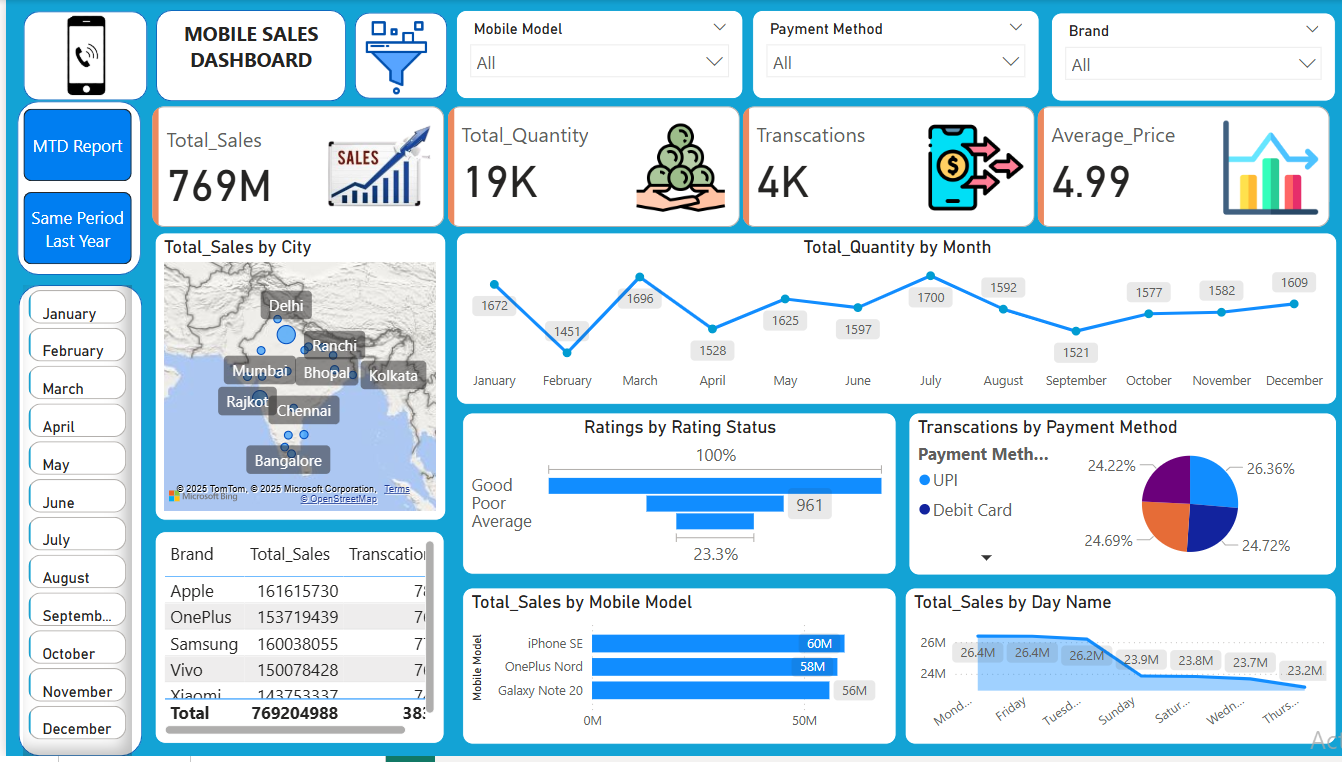

This screenshot's page, from the dashboard's own definition file:
{"tool":"powerbi","page":{"name":"Home","canvas":[1280,720],"ordinal":0},"visuals":[{"type":"shape","box":[16.5,11,118,85.1],"z":0},{"type":"image","box":[23.3,0,105.7,105.7],"z":1000},{"type":"shape","box":[10.7,96.4,117.9,165.5],"z":2000},{"type":"shape","box":[11.9,271.4,117.9,448.8],"z":3000},{"type":"advancedSlicerVisual","fields":{"Values":["Custom_Calender.Date.Variation.Date Hierarchy.Month"]},"box":[16.7,271.4,103.6,448.8],"z":4000},{"type":"cardVisual","fields":{"Data":["Sales_Data.Total_Sales","Sales_Data.Total_Quantity","Sales_Data.Transcations","Sales_Data.Average_Price"]},"box":[135.1,96.3,1132.3,125],"z":5000},{"type":"slicer","fields":{"Values":["Sales_Data.Mobile Model"]},"box":[428.6,9.5,273.8,84.5],"z":6000},{"type":"slicer","fields":{"Values":["Sales_Data.Payment Method"]},"box":[710.7,9.5,273.8,84.5],"z":7000},{"type":"slicer","fields":{"Values":["Sales_Data.Brand"]},"box":[995.8,11.5,271.6,84.8],"z":8000},{"type":"shape","box":[332.1,11.9,88.1,82.1],"z":9000},{"type":"image","box":[323.8,14.3,95.2,82.1],"z":10000},{"type":"shape","box":[142.9,9.5,181,86.9],"z":11000},{"type":"textbox","box":[151.2,14.3,164.3,79.8],"z":12000},{"type":"map","fields":{"Category":["Sales_Data.City"],"Size":["Sales_Data.Total_Sales"]},"box":[142.3,221.3,277.3,274.5],"z":13000},{"type":"lineChart","fields":{"Category":["Custom_Calender.Date.Variation.Date Hierarchy.Month"],"Y":["Sales_Data.Total_Quantity"]},"box":[428.2,221.3,839.2,163.8],"z":14000},{"type":"funnel","title":" Ratings by Rating Status","fields":{"Y":["CountNonNull(Sales_Data.Customer Ratings)"],"Category":["Sales_Data.Rating Status"]},"box":[434,392.9,413.5,154.7],"z":15000},{"type":"pieChart","fields":{"Y":["Sales_Data.Transcations"],"Category":["Sales_Data.Payment Method"]},"box":[859.3,392.3,408.1,155.2],"z":16000},{"type":"clusteredBarChart","fields":{"Y":["Sales_Data.Total_Sales"],"Category":["Sales_Data.Mobile Model"]},"box":[433.9,559,413.8,149.4],"z":17000},{"type":"areaChart","fields":{"Category":["Custom_Calender.Day Name"],"Y":["Sales_Data.Total_Sales"]},"box":[856.4,559,411,149.4],"z":18000},{"type":"tableEx","fields":{"Values":["Sales_Data.Brand","Sales_Data.Total_Sales","Sales_Data.Transcations"]},"box":[142.3,505.8,275.9,202.6],"z":19000},{"type":"pageNavigator","box":[16.7,103.6,103.6,148.8],"z":20000}]}

Visuals, with their boxes in screenshot pixels (x1, y1, x2, y2), scaled from the page's 1280x720 canvas onto the 1342x762 screenshot:
shape: [left=17, top=12, right=141, bottom=102]
image: [left=24, top=0, right=135, bottom=112]
shape: [left=11, top=102, right=135, bottom=277]
shape: [left=12, top=287, right=136, bottom=761]
advancedSlicerVisual - Custom_Calender.Date.Variation.Date Hierarchy.Month: [left=18, top=287, right=126, bottom=761]
cardVisual - Sales_Data.Total_Sales x Sales_Data.Total_Quantity: [left=142, top=102, right=1329, bottom=234]
slicer - Sales_Data.Mobile Model: [left=449, top=10, right=736, bottom=99]
slicer - Sales_Data.Payment Method: [left=745, top=10, right=1032, bottom=99]
slicer - Sales_Data.Brand: [left=1044, top=12, right=1329, bottom=102]
shape: [left=348, top=13, right=441, bottom=99]
image: [left=339, top=15, right=439, bottom=102]
shape: [left=150, top=10, right=340, bottom=102]
textbox: [left=159, top=15, right=331, bottom=100]
map - Sales_Data.City x Sales_Data.Total_Sales: [left=149, top=234, right=440, bottom=525]
lineChart - Custom_Calender.Date.Variation.Date Hierarchy.Month x Sales_Data.Total_Quantity: [left=449, top=234, right=1329, bottom=408]
" Ratings by Rating Status" funnel: [left=455, top=416, right=889, bottom=580]
pieChart - Sales_Data.Transcations x Sales_Data.Payment Method: [left=901, top=415, right=1329, bottom=579]
clusteredBarChart - Sales_Data.Total_Sales x Sales_Data.Mobile Model: [left=455, top=592, right=889, bottom=750]
areaChart - Custom_Calender.Day Name x Sales_Data.Total_Sales: [left=898, top=592, right=1329, bottom=750]
tableEx - Sales_Data.Brand x Sales_Data.Total_Sales: [left=149, top=535, right=438, bottom=750]
pageNavigator: [left=18, top=110, right=126, bottom=267]
